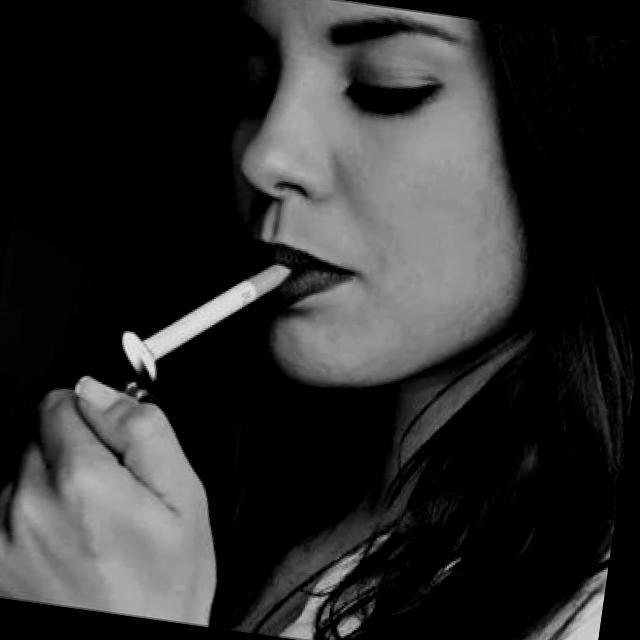cigarette: (128, 241, 293, 388)
